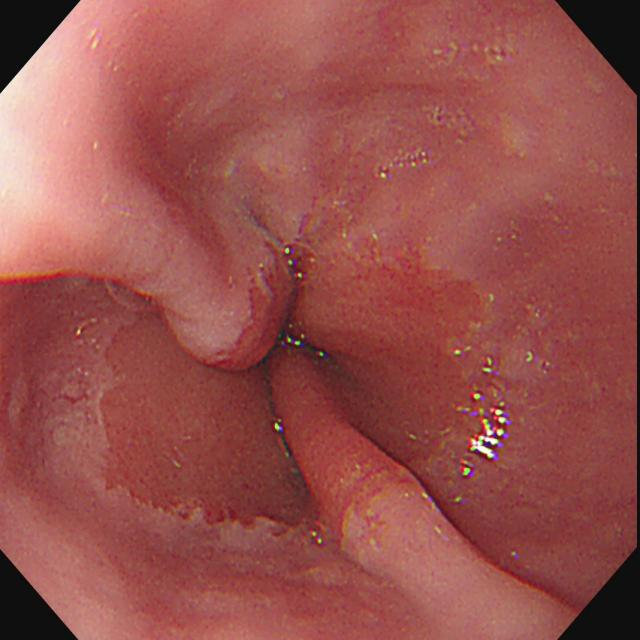I: (85, 201, 497, 547)
T: (281, 243, 320, 290)
U: (460, 388, 511, 481), (281, 334, 309, 350), (273, 417, 286, 439)
